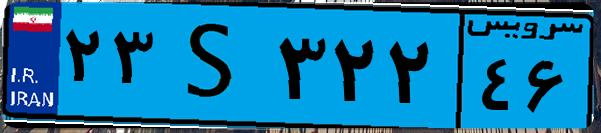2: (385, 28, 445, 110), (330, 28, 385, 110), (57, 26, 110, 100)
3: (270, 28, 330, 110), (110, 28, 158, 98)
4: (475, 38, 525, 113)
6: (525, 38, 570, 115)
S: (158, 12, 270, 120)
